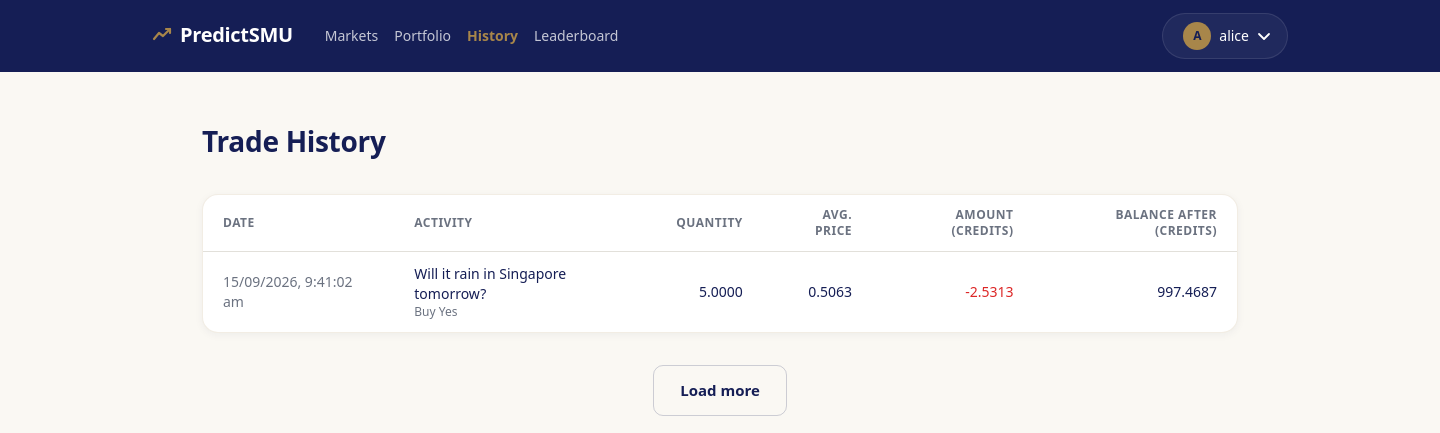
Test: TradeHistoryPage › appends the next page when Load more is clicked
The width and height of the screenshot is (1440, 433).
Check: the link "Will it rain in Singapore tomorrow?" is shown, box [414,264,566,303]
Check: the text "Starting grant" is not shown
Click the button "Load more": (720, 390) [653,365,787,416]
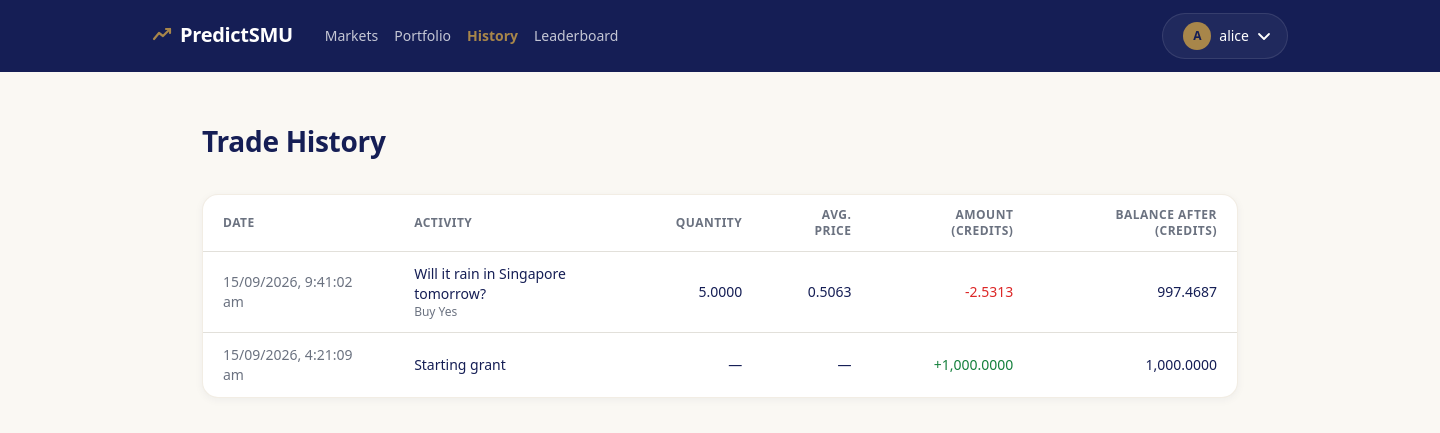
Check: the link "Will it rain in Singapore tomorrow?" is shown, box [414,264,566,303]
Check: the text "Starting grant" is shown, box [414,355,506,374]
Check: the button "Load more" is gone
